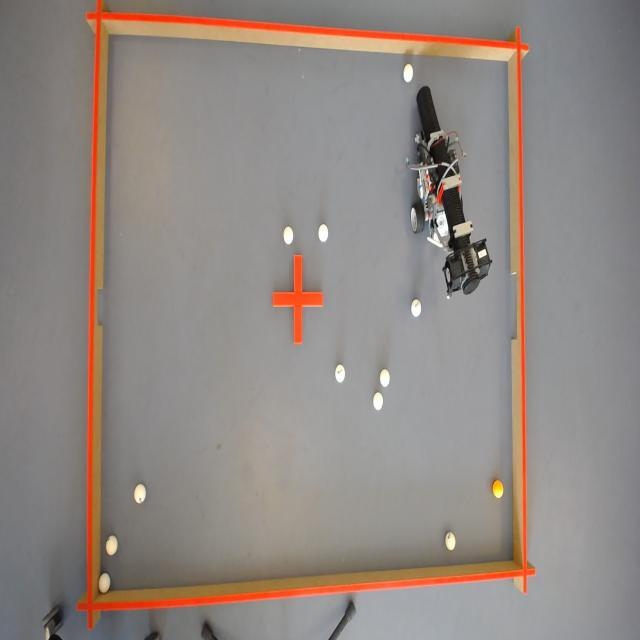orange-golf-balls: (492, 480, 503, 500)
robot: (409, 86, 493, 294)
white-golf-balls: (372, 390, 386, 412), (410, 296, 422, 321), (282, 226, 296, 247), (97, 572, 111, 593), (106, 533, 118, 557), (379, 367, 392, 389), (444, 530, 457, 552), (134, 483, 146, 506), (318, 224, 330, 245), (402, 63, 414, 83), (334, 364, 346, 384)
